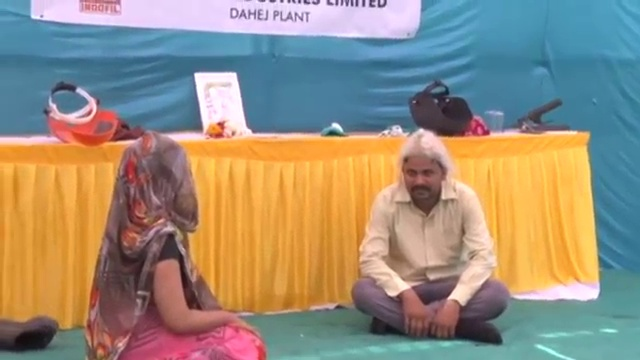helmet_off: (112, 133, 200, 233), (398, 131, 450, 207)
person: (84, 132, 269, 360), (348, 128, 511, 346)
